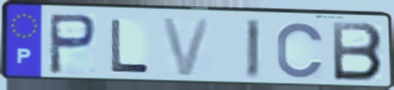B: (329, 20, 385, 84)
C: (275, 21, 327, 81)
I: (243, 17, 263, 81)
L: (108, 17, 152, 75)
P: (47, 12, 99, 77)
V: (159, 16, 214, 79)
